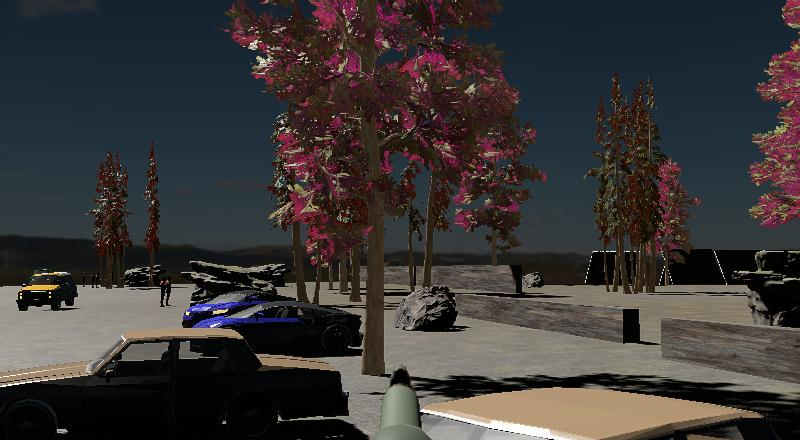Human: (159, 275, 173, 308)
car: (0, 330, 354, 440), (182, 299, 366, 356), (15, 270, 79, 313)
